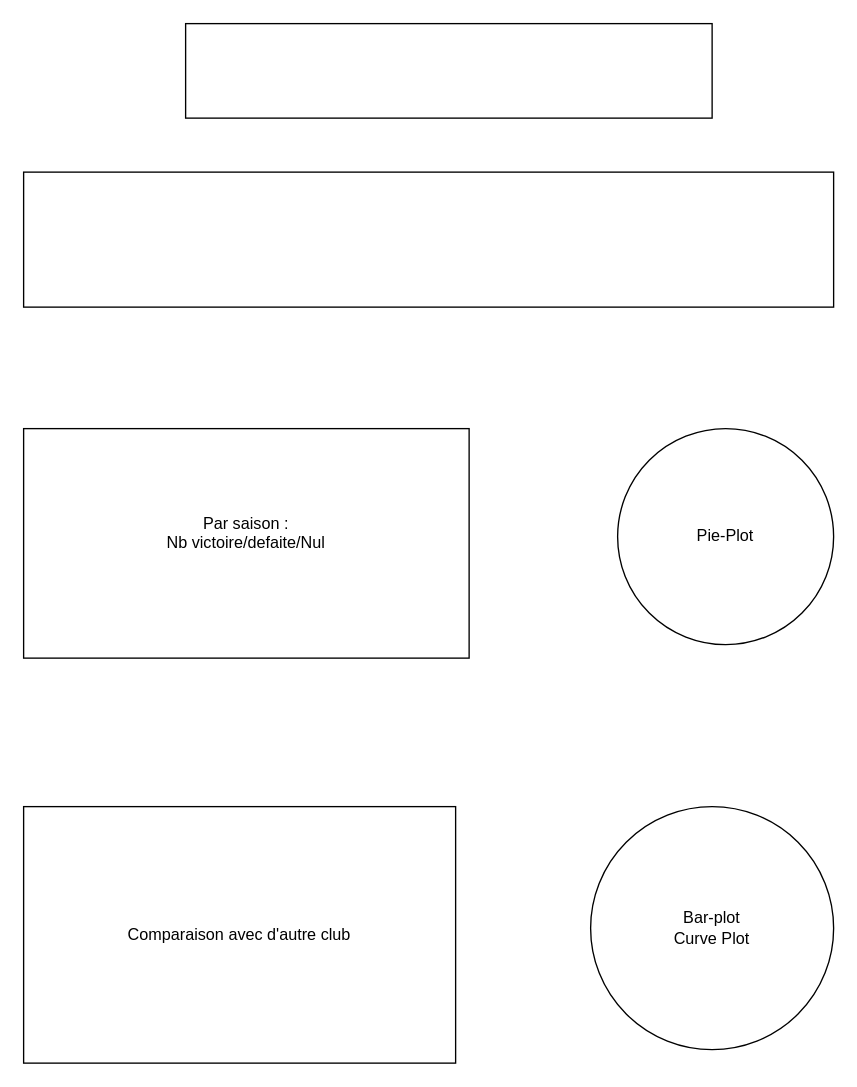
Some shapes in this 857 by 1087 pixel diagram are drawn without their labels. The centre of each missing label's shape, as x and y in pixels:
"Club / Logo" belongs at pixel 448 70.
"Wiki + Stade Ligue + Joueurs actuels+ Position dans la ligue" belongs at pixel 428 239.
